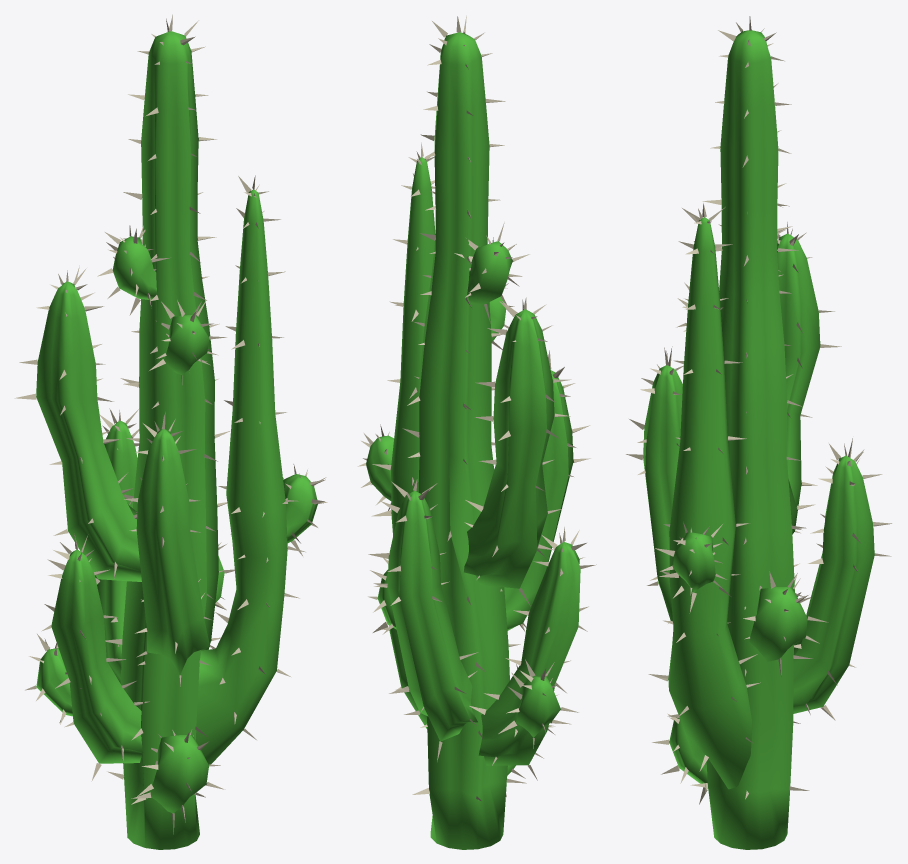
File: cactusLarge.fbx
3 renders of one model, left to right at view 1: azimuth 30°, elevation 25°; view 2: azimuth 150°, elevation 25°; view 3: azimuth 270°, elevation 25°, orthographic.
Parts seen in each view (by area): view 1: cactusLarge; view 2: cactusLarge; view 3: cactusLarge.
Part boxes in pixels (x1,y1,x2,y2): cactusLarge: (14,14,327,849); cactusLarge: (357,15,596,849); cactusLarge: (626,16,891,849).
Size of the model in its own units: 2.67 by 8.1 by 2.39.
